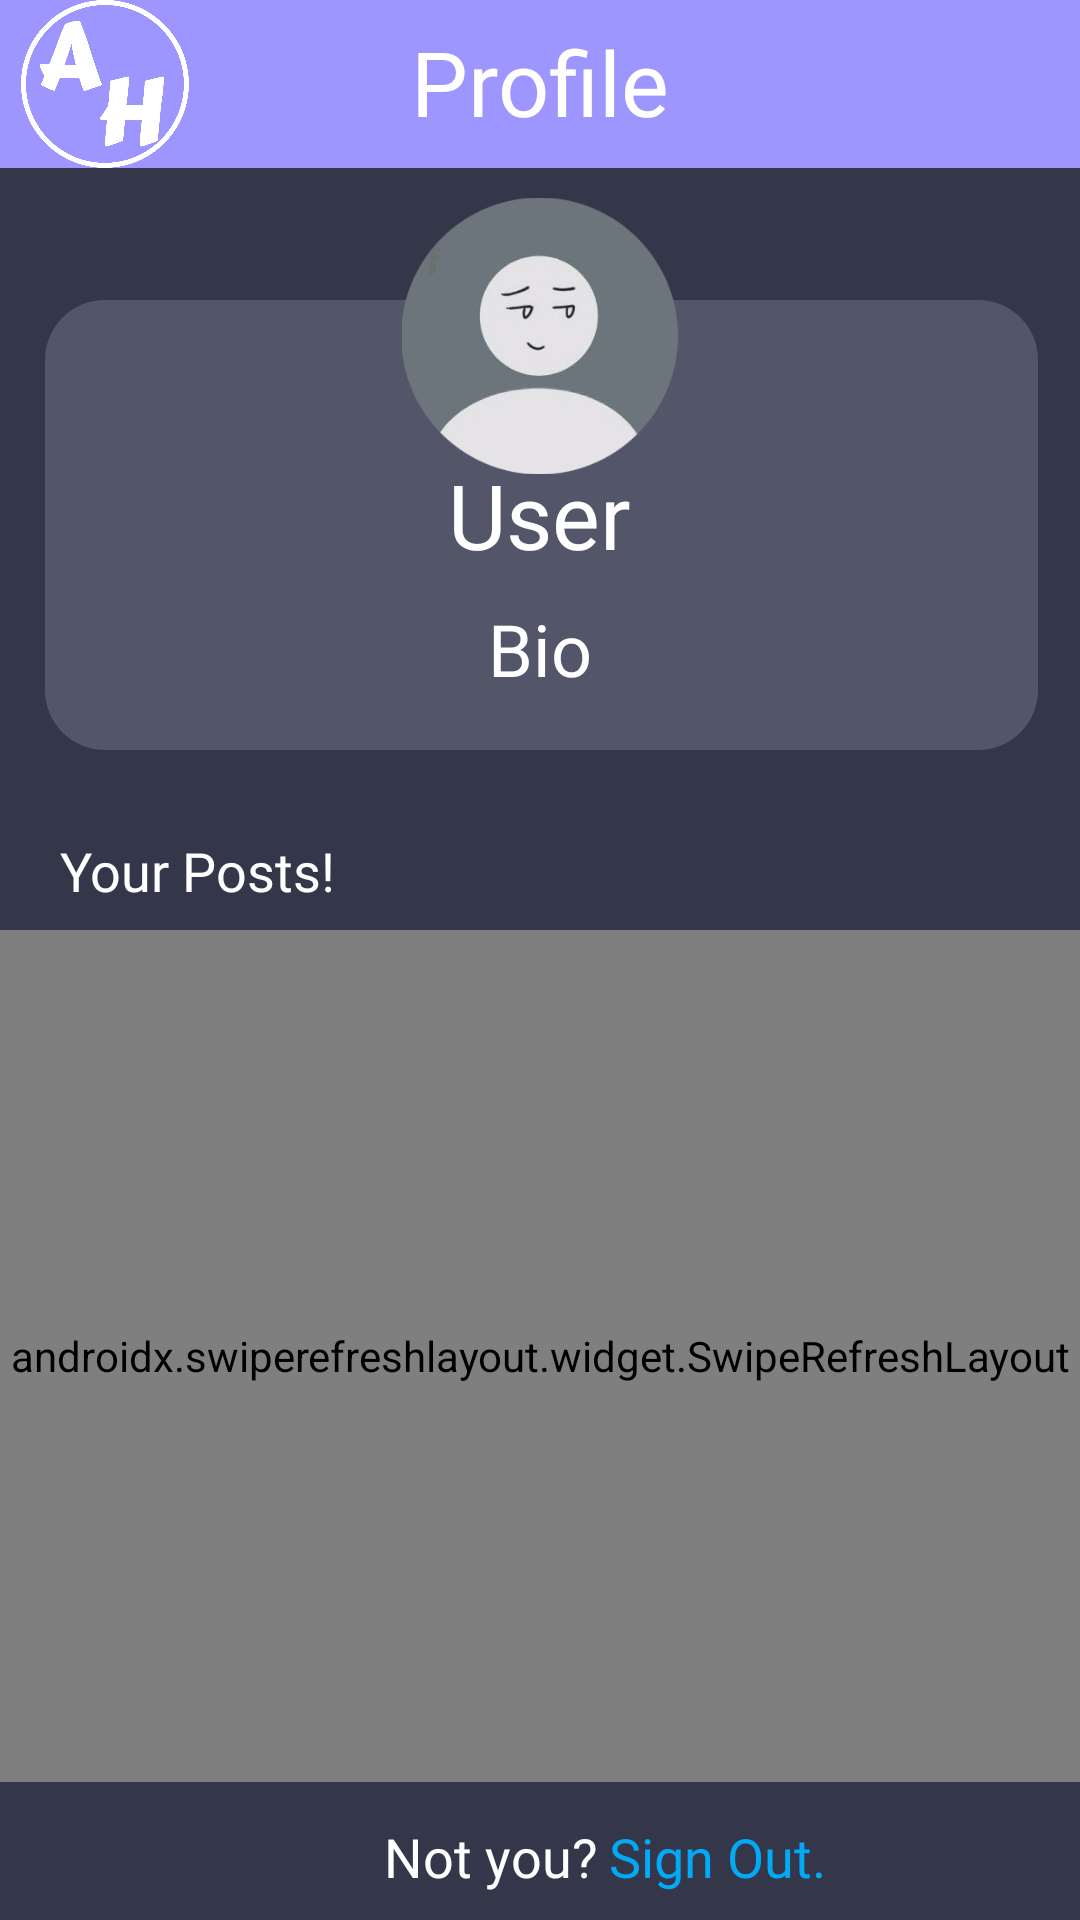

Icons on this 1080w x 1920h Android screen, each with the point to tap as (x,y):
deafultpic: (540,336)
